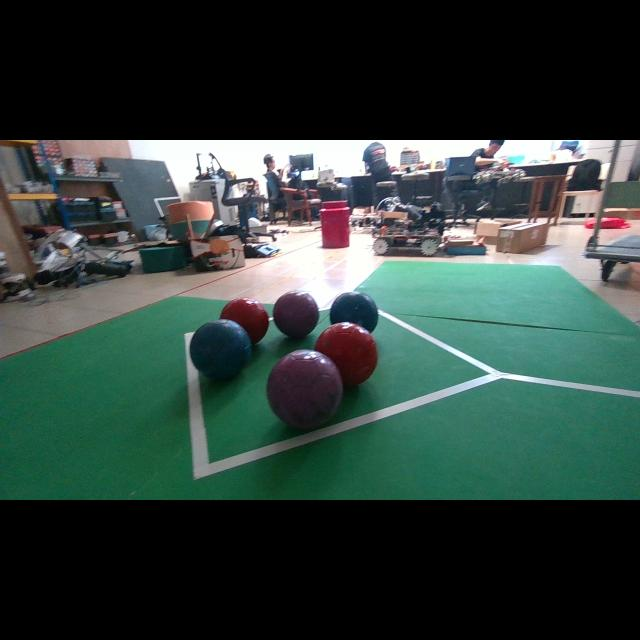B: (190, 319, 251, 380), (330, 291, 378, 332)
P: (266, 350, 342, 429), (272, 291, 319, 338)
R: (315, 322, 378, 386), (220, 298, 269, 344)
